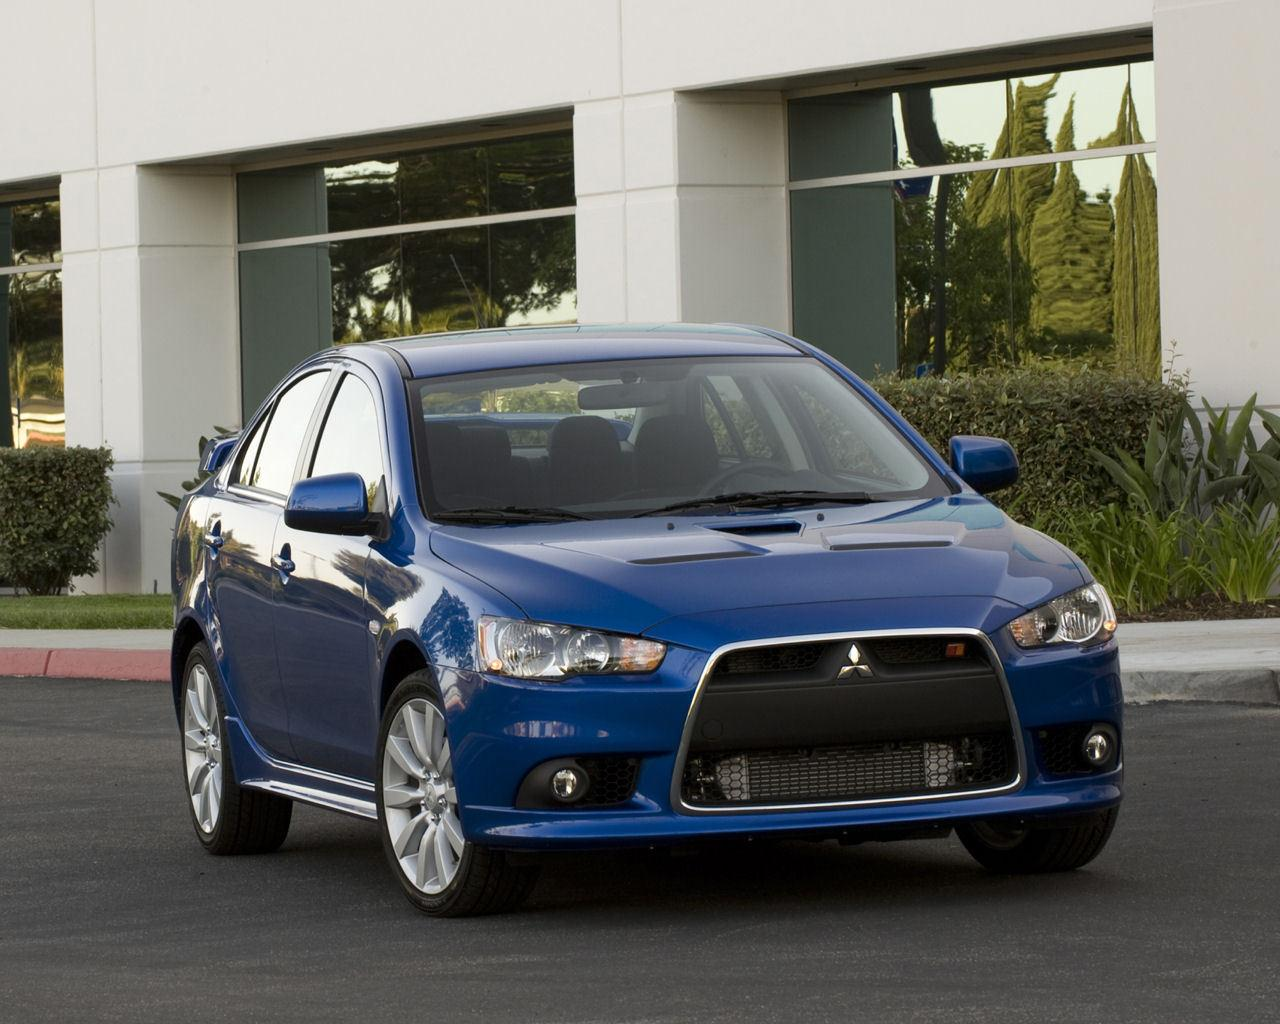Mitsubishi: (818, 636, 893, 690)
